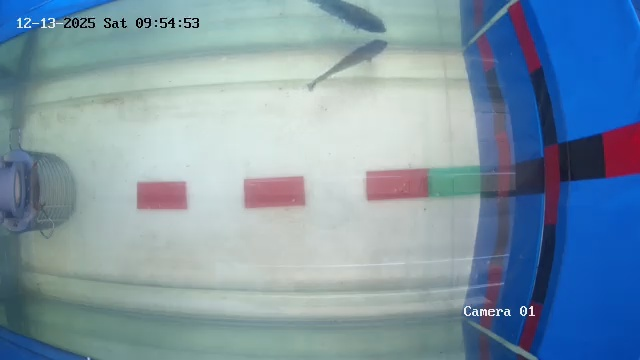fish: (307, 34, 400, 98)
